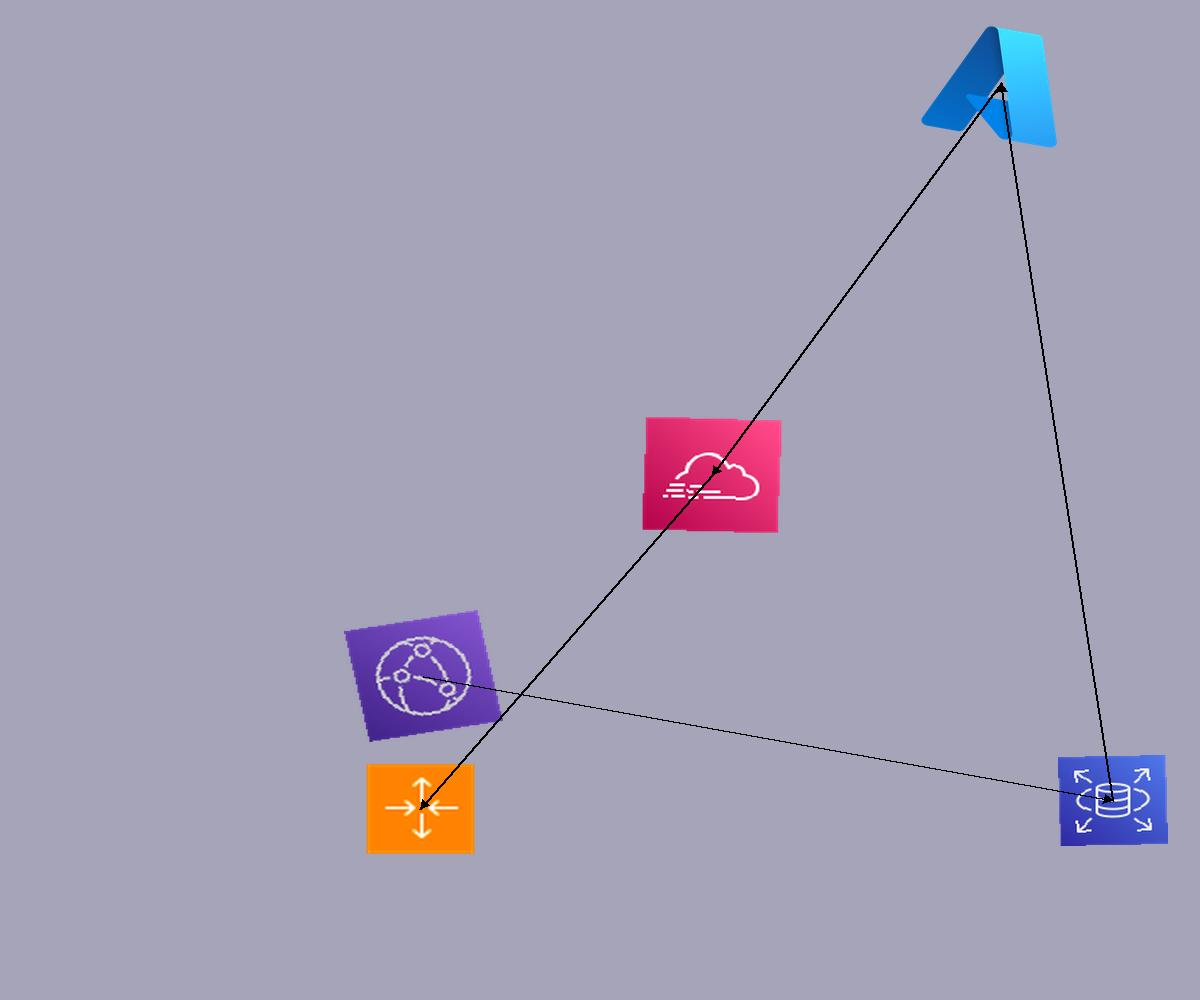AWS-CloudFront: (344, 610, 503, 742)
AWS-CloudTrail: (641, 416, 783, 534)
AWS-RDS: (1058, 755, 1168, 846)
AWS-Scaling-group: (364, 762, 477, 856)
Azure_services: (912, 9, 1091, 158)
